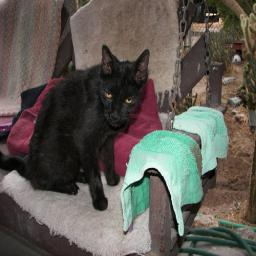catnose: (109, 113, 121, 124)
